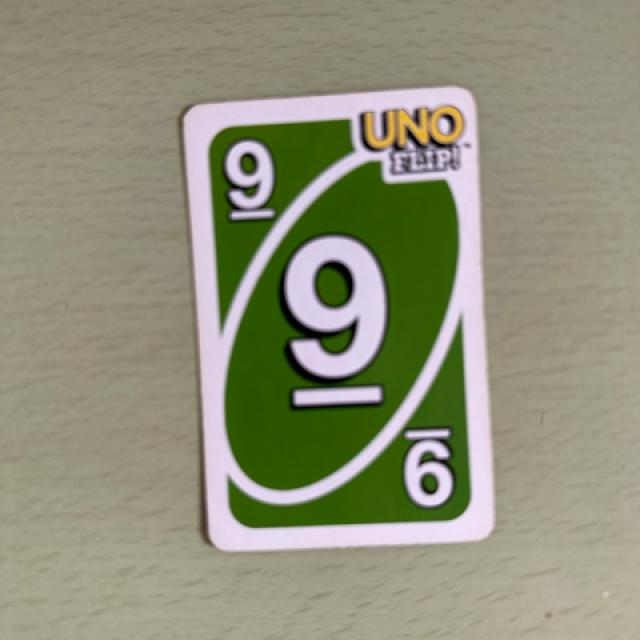lgreen-9: (201, 117, 298, 240)
